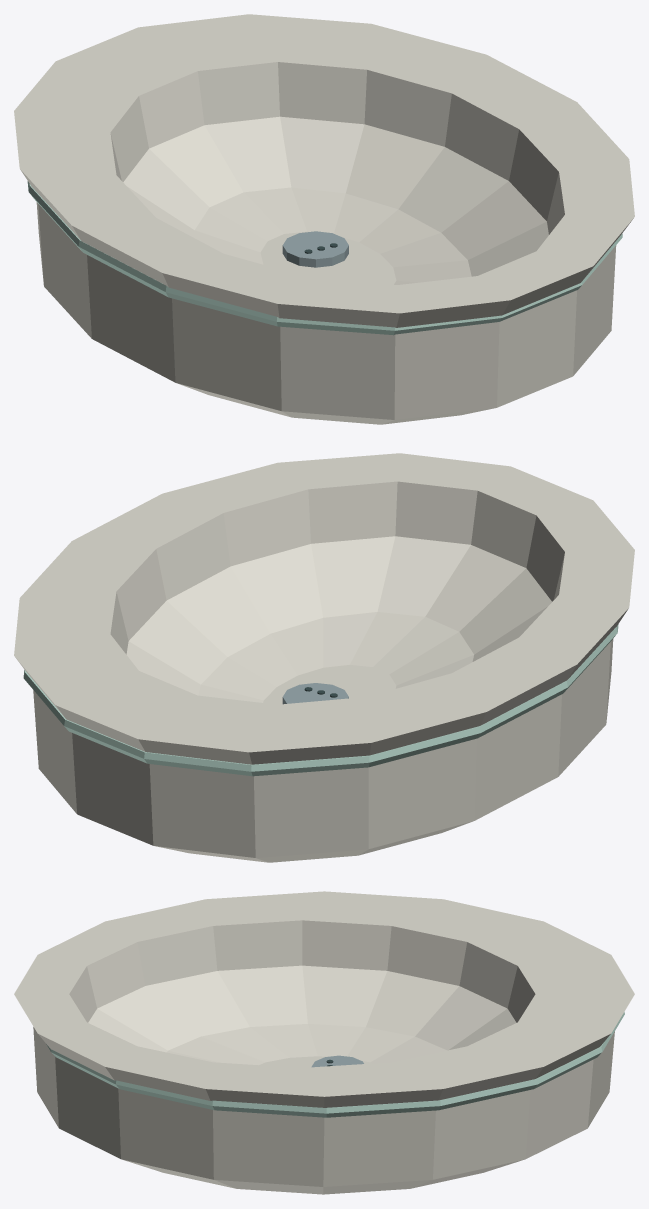
File: Facilities-EmergencyFixture.fbx
The picture shows the model from 3 angles, top to bottom: view 1: azimuth 30°, elevation 25°; view 2: azimuth 150°, elevation 25°; view 3: azimuth 270°, elevation 25°; orthographic projection. The views are drawn at different scales.
Parts seen in each view (by area): view 1: Low Ceramic Fixture, Non Slip Shoulder, Drain; view 2: Low Ceramic Fixture, Non Slip Shoulder, Drain; view 3: Low Ceramic Fixture, Non Slip Shoulder.
Part boxes in pixels (<box>): Low Ceramic Fixture: <box>14,14,634,424</box>; Non Slip Shoulder: <box>27,181,622,335</box>; Drain: <box>282,231,348,267</box>; Low Ceramic Fixture: <box>14,453,634,862</box>; Non Slip Shoulder: <box>23,624,618,776</box>; Drain: <box>282,683,348,704</box>; Low Ceramic Fixture: <box>14,891,634,1194</box>; Non Slip Shoulder: <box>46,1012,624,1117</box>.
Size of the model in its own units: 0.44 by 0.126 by 0.562.
